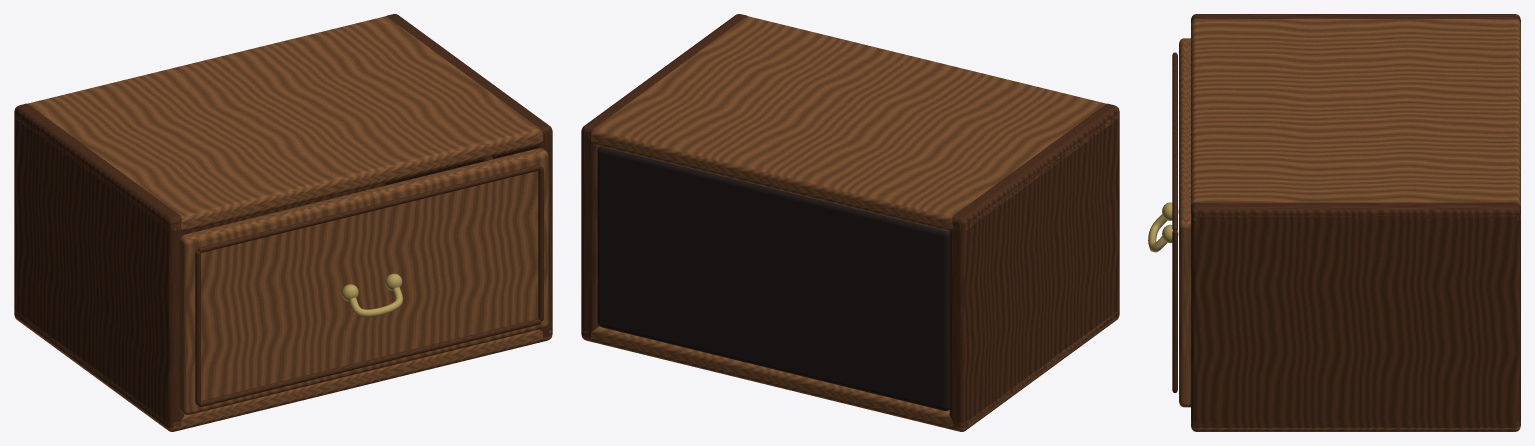
The model's file is opening-drawer.glb.
The picture shows the model from 3 angles, left to right: view 1: azimuth 30°, elevation 25°; view 2: azimuth 150°, elevation 25°; view 3: azimuth 270°, elevation 25°; orthographic projection. The views are drawn at different scales.
Visible parts, largest first — view 1: opening-drawer, articulation; view 2: opening-drawer; view 3: opening-drawer, articulation.
Boxes of the visible parts, x1,y1,x2,y2 form: opening-drawer: [14, 14, 552, 431]; articulation: [179, 148, 548, 414]; opening-drawer: [581, 14, 1119, 431]; opening-drawer: [1191, 14, 1520, 431]; articulation: [1148, 38, 1190, 407].
Size of the model in its own units: 0.6 by 0.32 by 0.48.
Materials: 4 (2 with a texture image).
